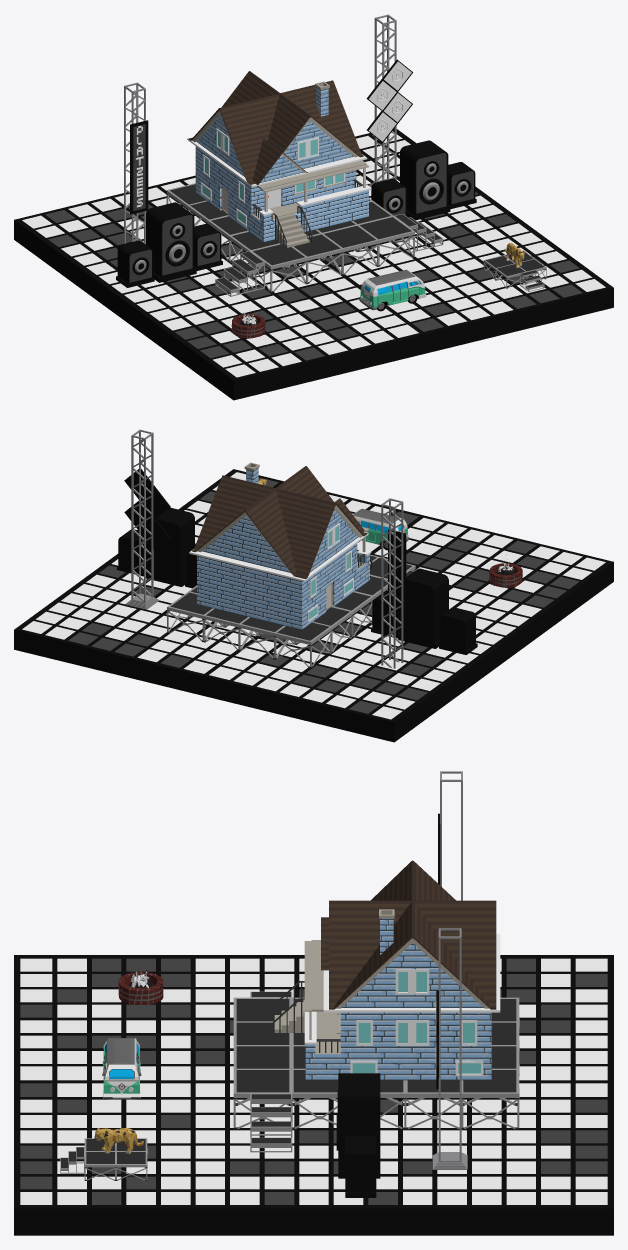
3 renders of one model, top to bottom at view 1: azimuth 30°, elevation 25°; view 2: azimuth 150°, elevation 25°; view 3: azimuth 270°, elevation 25°, orthographic. The views are drawn at different scales.
Visible parts, largest first — view 1: Cube.008, Cube.547, VEHICLES_VAN, OBJRANDOM_CAMPFIRE; view 2: Cube.008, Cube.547, VEHICLES_VAN, OBJRANDOM_CAMPFIRE; view 3: Cube.008, Cube.547, VEHICLES_VAN, OBJRANDOM_CAMPFIRE, ANIMAL_JAGUAR.
Part boxes in pixels (box(x1,y1,x2,y2)): Cube.008: box(14, 14, 613, 400); Cube.547: box(187, 71, 371, 248); VEHICLES_VAN: box(359, 269, 426, 311); OBJRANDOM_CAMPFIRE: box(231, 312, 265, 338); Cube.008: box(14, 429, 613, 742); Cube.547: box(189, 462, 372, 629); VEHICLES_VAN: box(353, 508, 409, 550); OBJRANDOM_CAMPFIRE: box(489, 562, 522, 587); Cube.008: box(14, 771, 613, 1235); Cube.547: box(272, 860, 500, 1080); VEHICLES_VAN: box(102, 1038, 141, 1099); OBJRANDOM_CAMPFIRE: box(118, 968, 163, 1004); ANIMAL_JAGUAR: box(94, 1128, 143, 1154).
Bounding box in the file's own units: 4000 × 1995 × 4000.
Materials: 41 (3 with a texture image).
